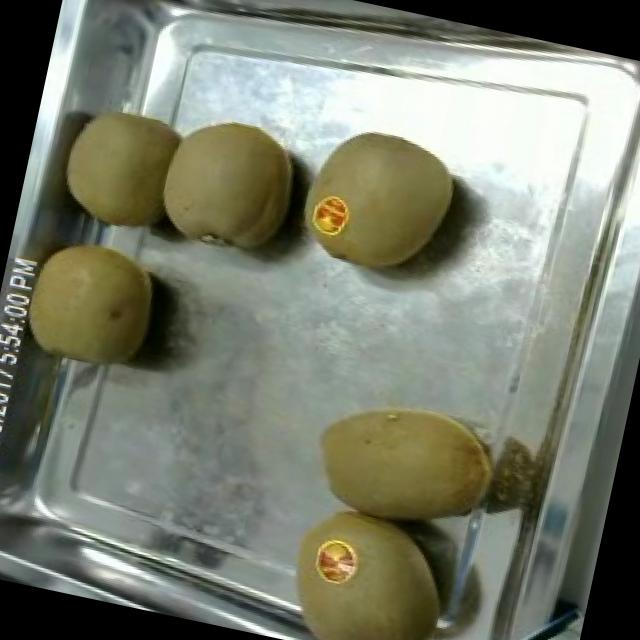Fruit: (292, 373, 510, 552), (289, 110, 472, 292), (142, 98, 314, 272), (275, 487, 467, 640), (3, 222, 175, 383), (40, 86, 208, 248)
